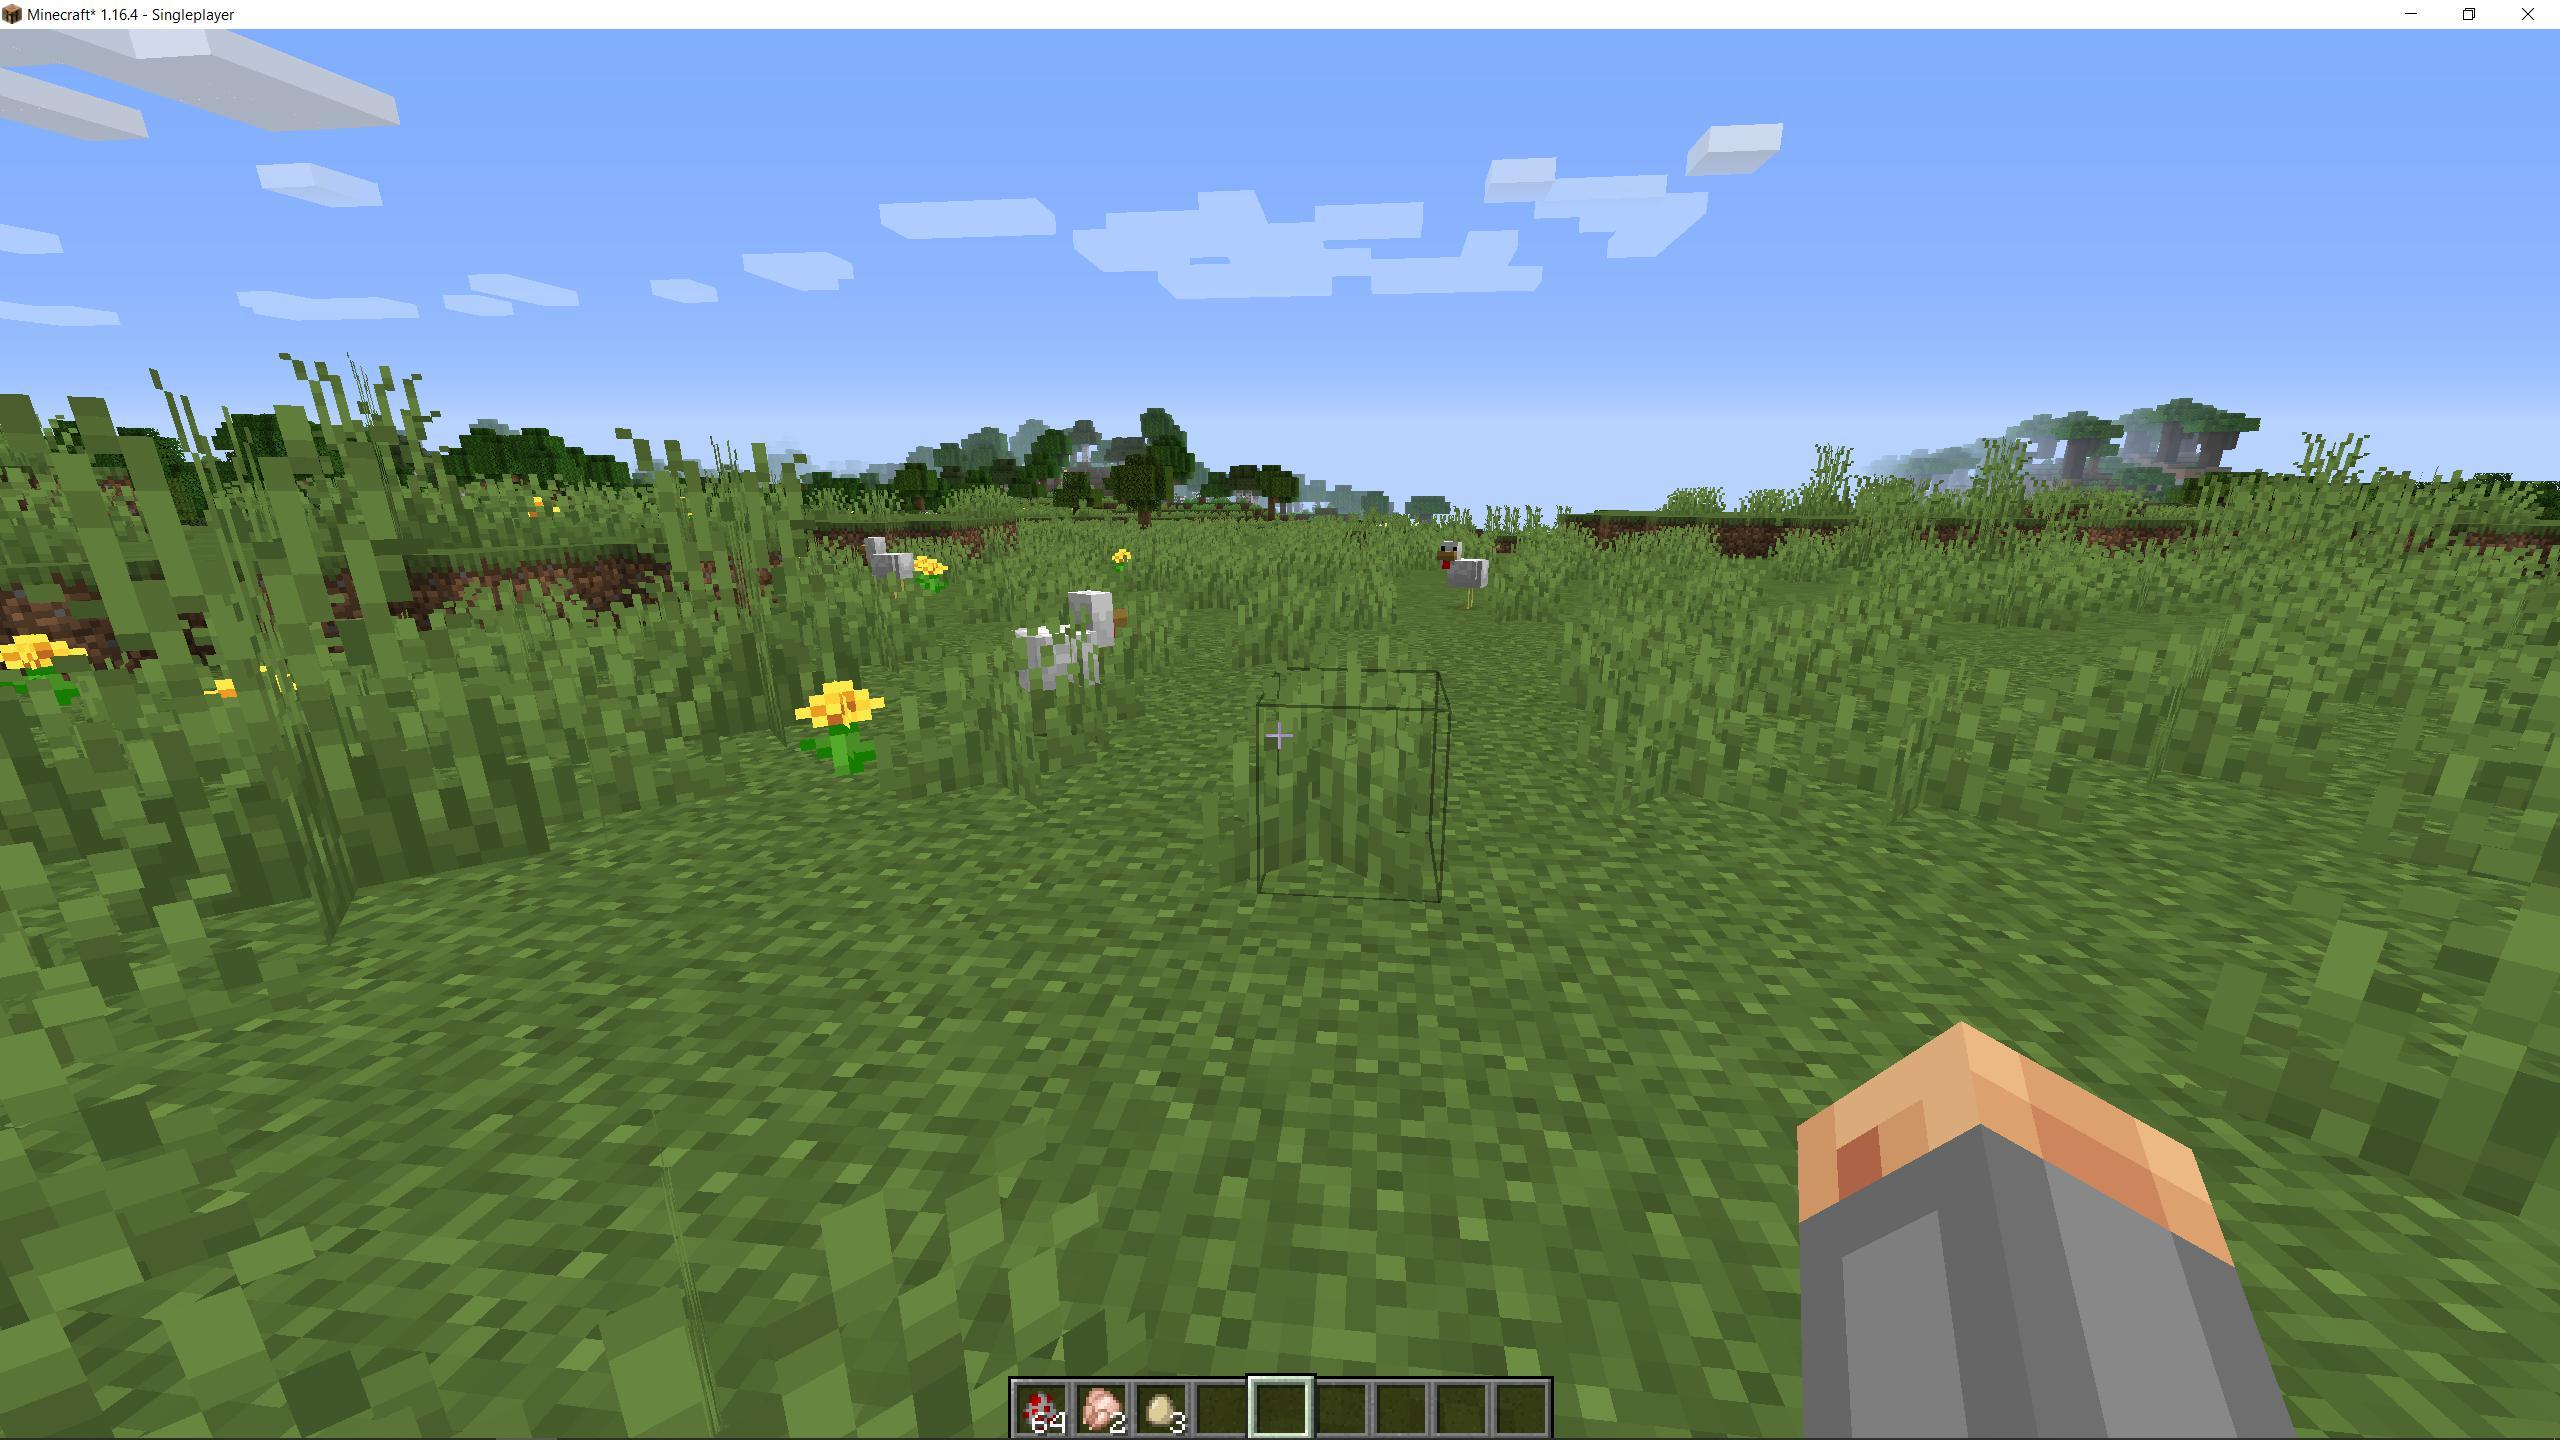chicken: (1007, 566, 1132, 721), (1417, 529, 1516, 624), (855, 527, 928, 607)
